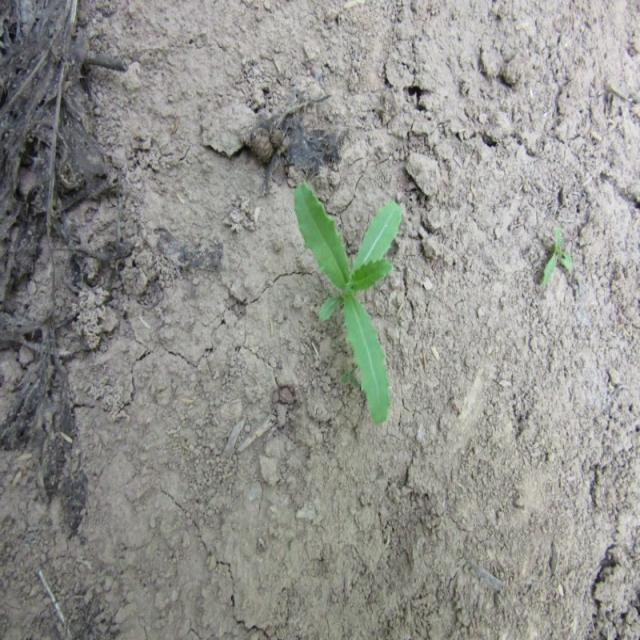field_thistle: (259, 166, 449, 407)
